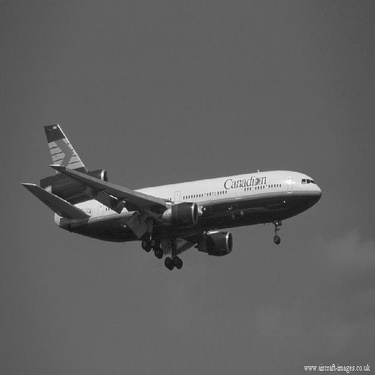airplane: (16, 110, 332, 272)
